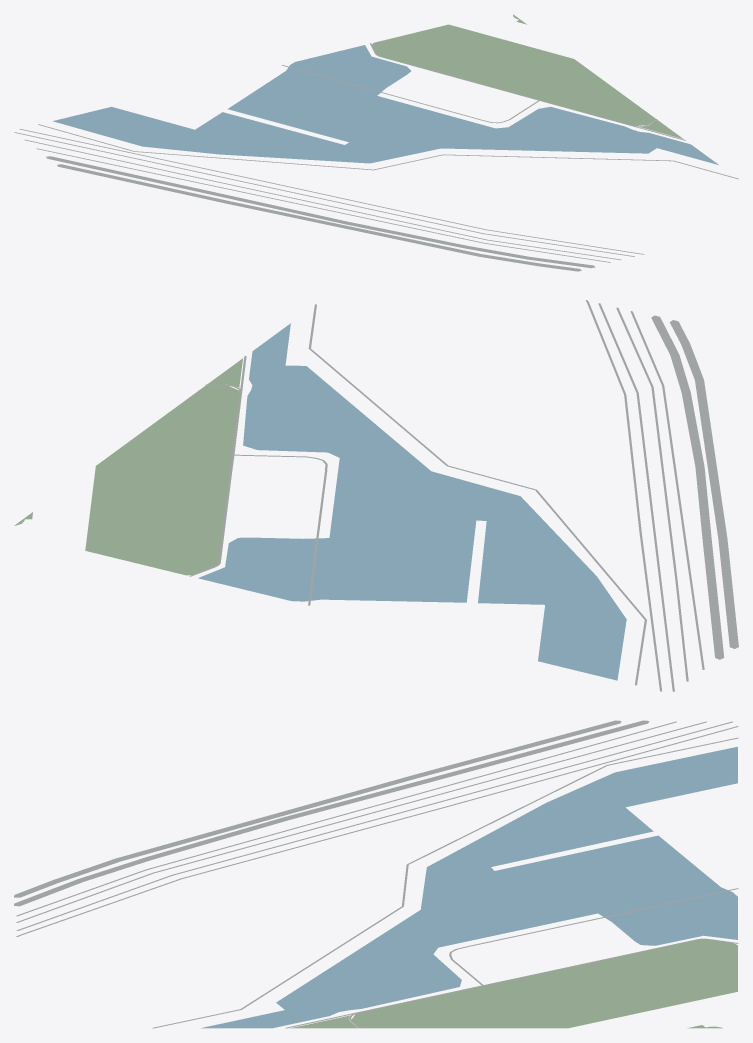
Rendered from -24_9-known-fine.glb.
3 renders of one model, top to bottom at view 1: azimuth 30°, elevation 25°; view 2: azimuth 150°, elevation 25°; view 3: azimuth 270°, elevation 25°, orthographic. The views are drawn at different scales.
Size of the model in its own units: 1006 by 0.1 by 1001.
